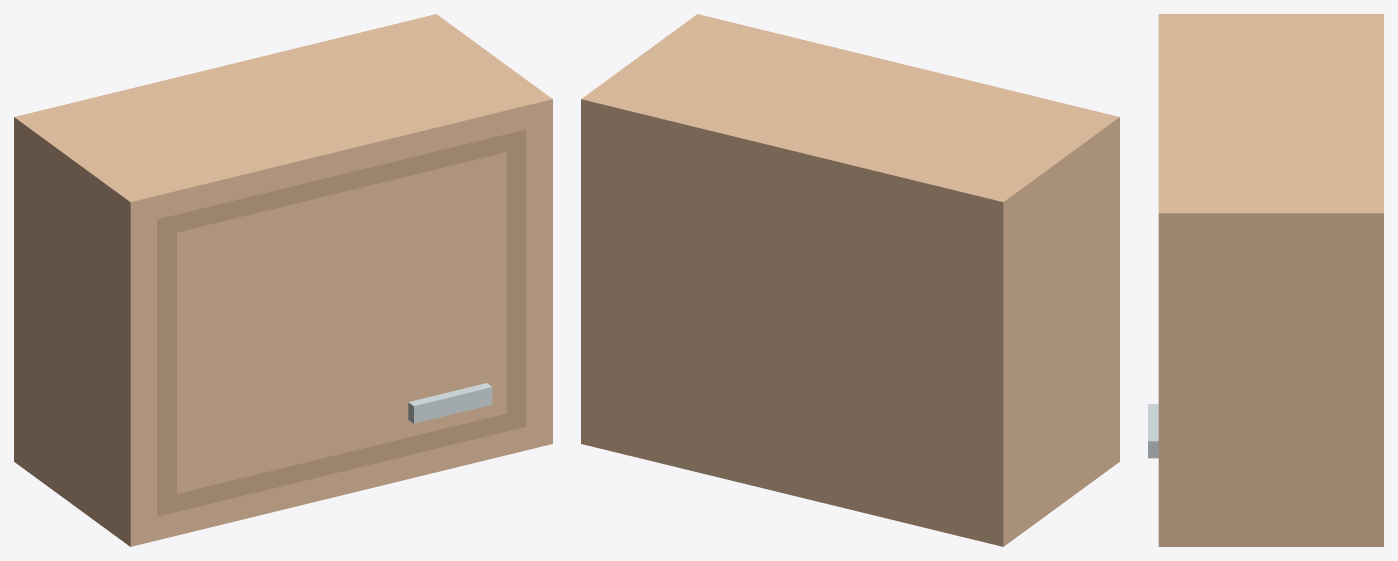
The model's file is kitchenCabinetUpper-col.glb.
3 renders of one model, left to right at view 1: azimuth 30°, elevation 25°; view 2: azimuth 150°, elevation 25°; view 3: azimuth 270°, elevation 25°, orthographic. The views are drawn at different scales.
Visible parts, largest first — view 1: kitchenCabinetUpper-col; view 2: kitchenCabinetUpper-col; view 3: kitchenCabinetUpper-col.
Boxes of the visible parts, box(x1,y1,x2,y2) form: kitchenCabinetUpper-col: box(14, 14, 552, 546); kitchenCabinetUpper-col: box(581, 14, 1119, 546); kitchenCabinetUpper-col: box(1148, 14, 1383, 546).
Size of the model in its own units: 0.5 by 0.39 by 0.25.
